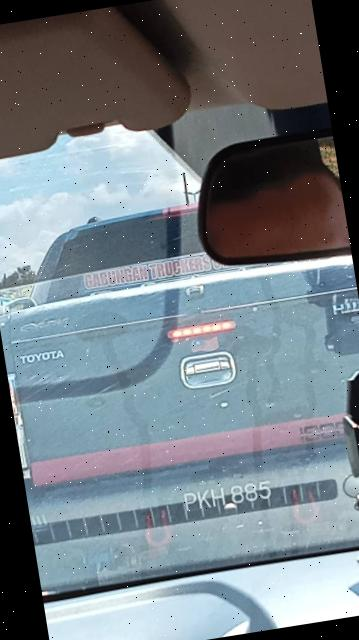License_Plate: (152, 466, 315, 533)
car: (1, 174, 359, 586)
